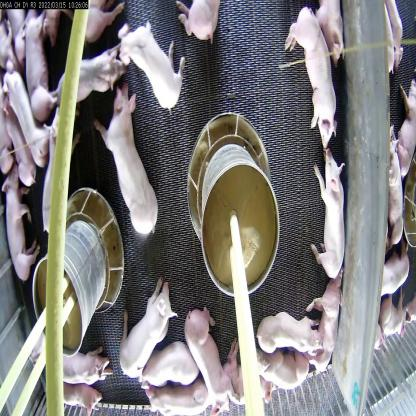Pig: (98, 82, 160, 241), (282, 8, 338, 156), (111, 277, 180, 388), (112, 22, 186, 116), (180, 303, 235, 415), (39, 112, 81, 242), (311, 148, 350, 278), (55, 42, 126, 113), (0, 170, 41, 285), (5, 67, 51, 168), (212, 348, 278, 410), (257, 312, 326, 366), (140, 334, 202, 392), (42, 339, 110, 384), (310, 283, 342, 377), (43, 370, 109, 414), (249, 352, 319, 393), (145, 379, 214, 416), (176, 0, 220, 48)
